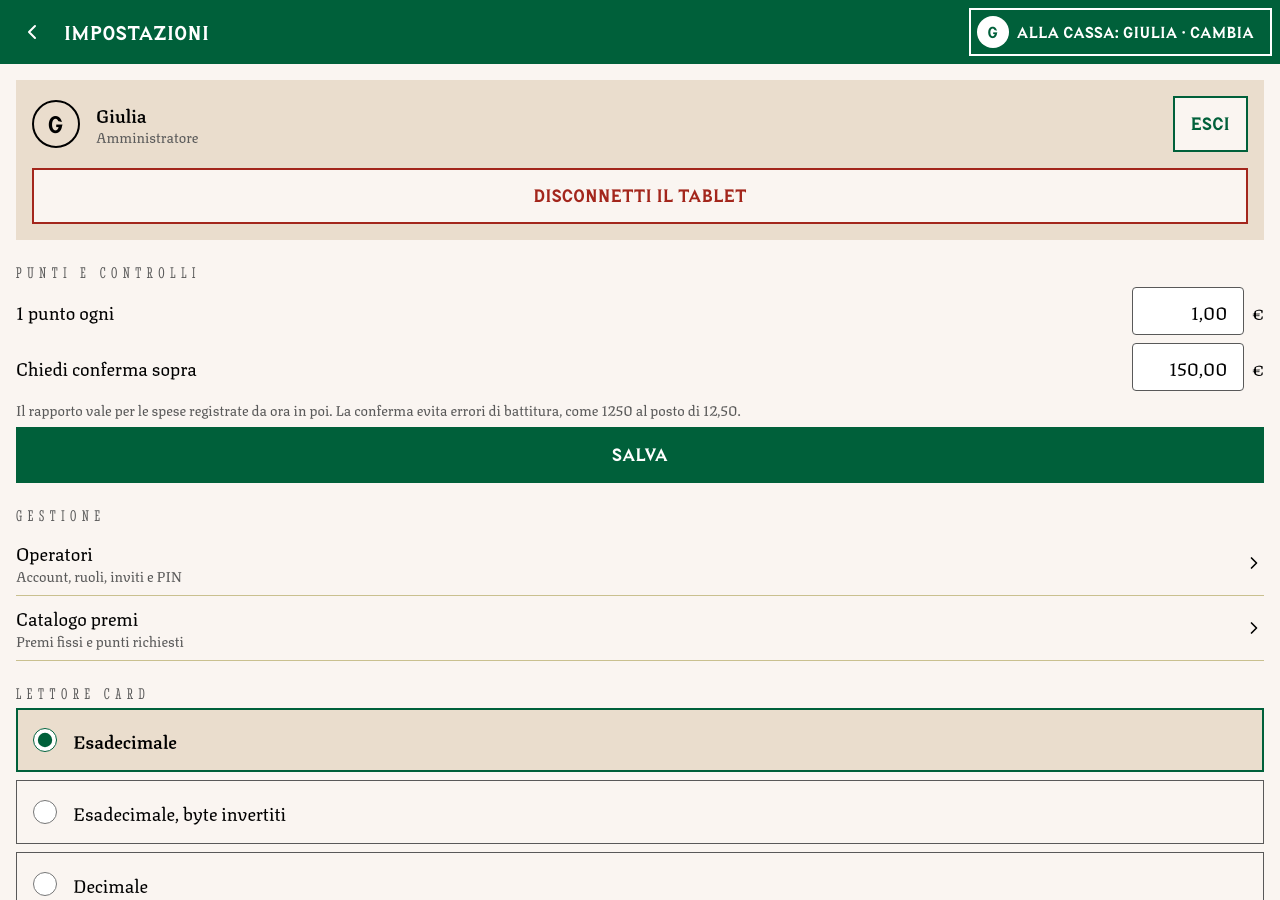
Test: settings page on the till tablet › "Disconnetti il tablet" asks first, and "Lascia com’è" keeps everything
The width and height of the screenshot is (1280, 900).
Click the button "Disconnetti il tablet" at (640, 196), box [32, 168, 1248, 224]
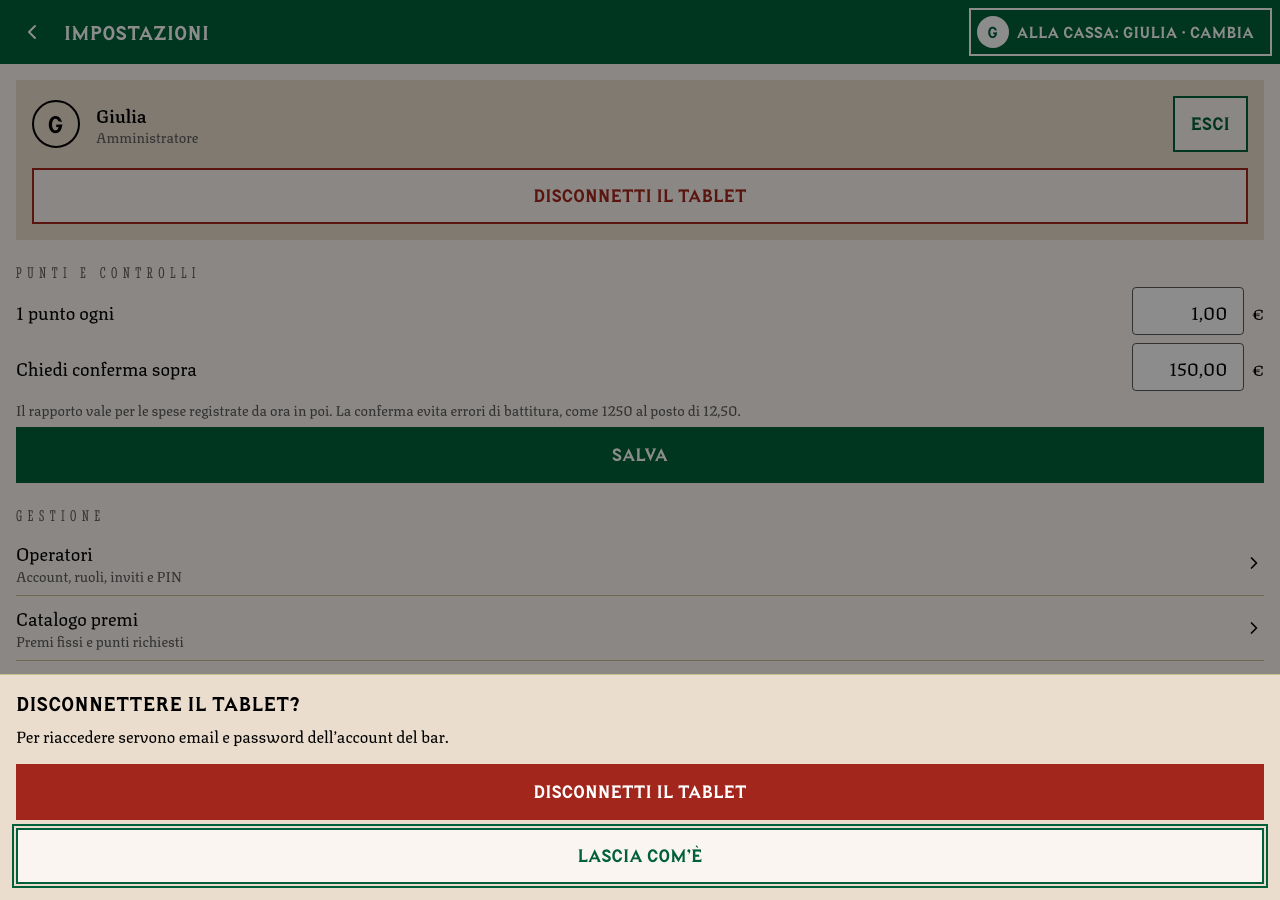
Click the button "Lascia com’è" at (640, 856), box [16, 828, 1264, 884]
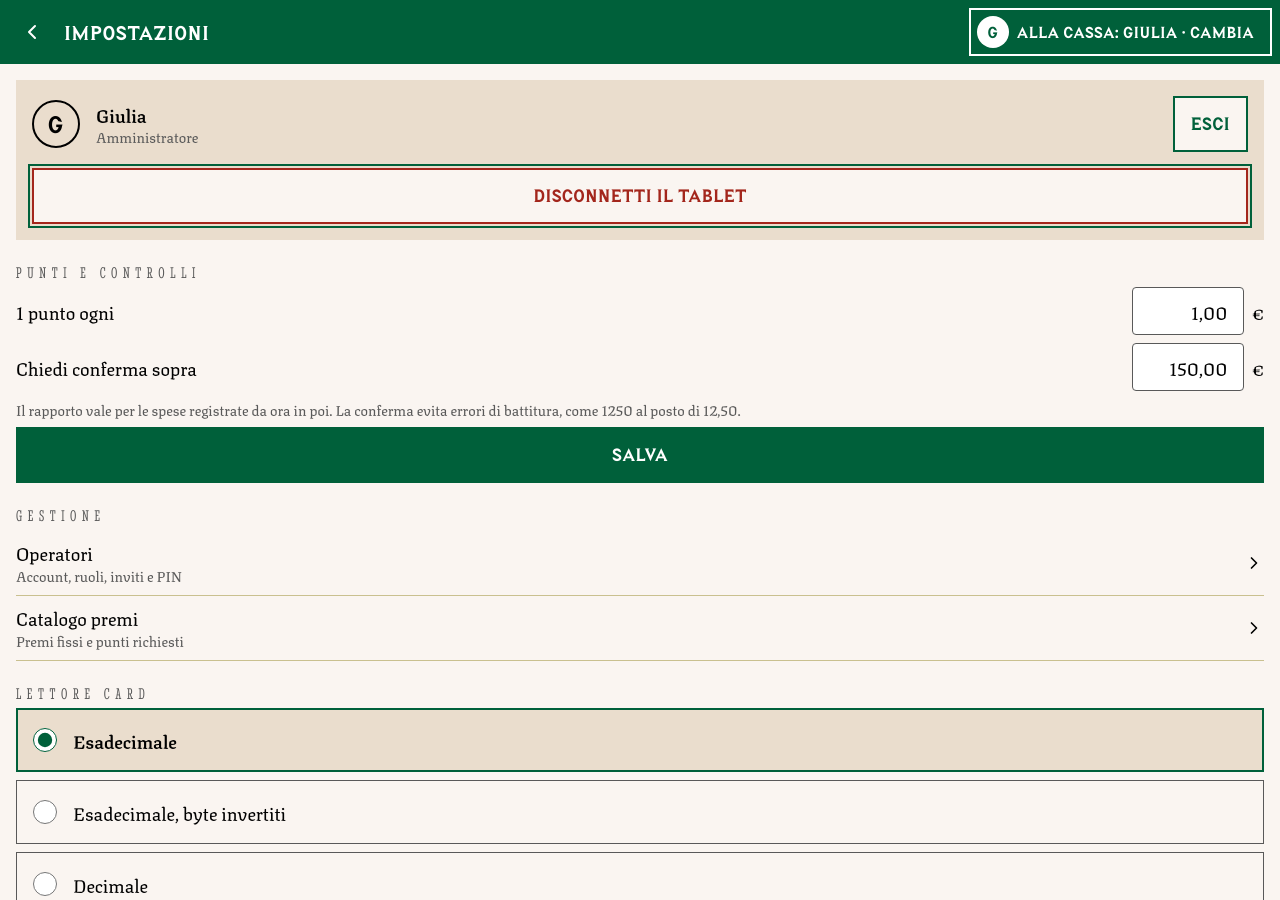
Expected: the dialog is gone
